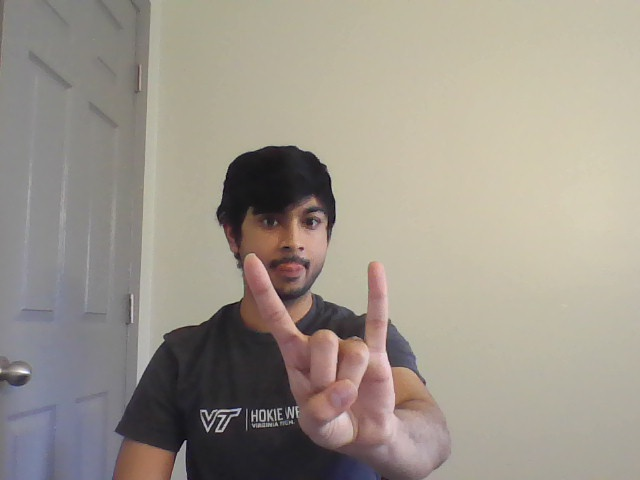help: (237, 249, 402, 444)
